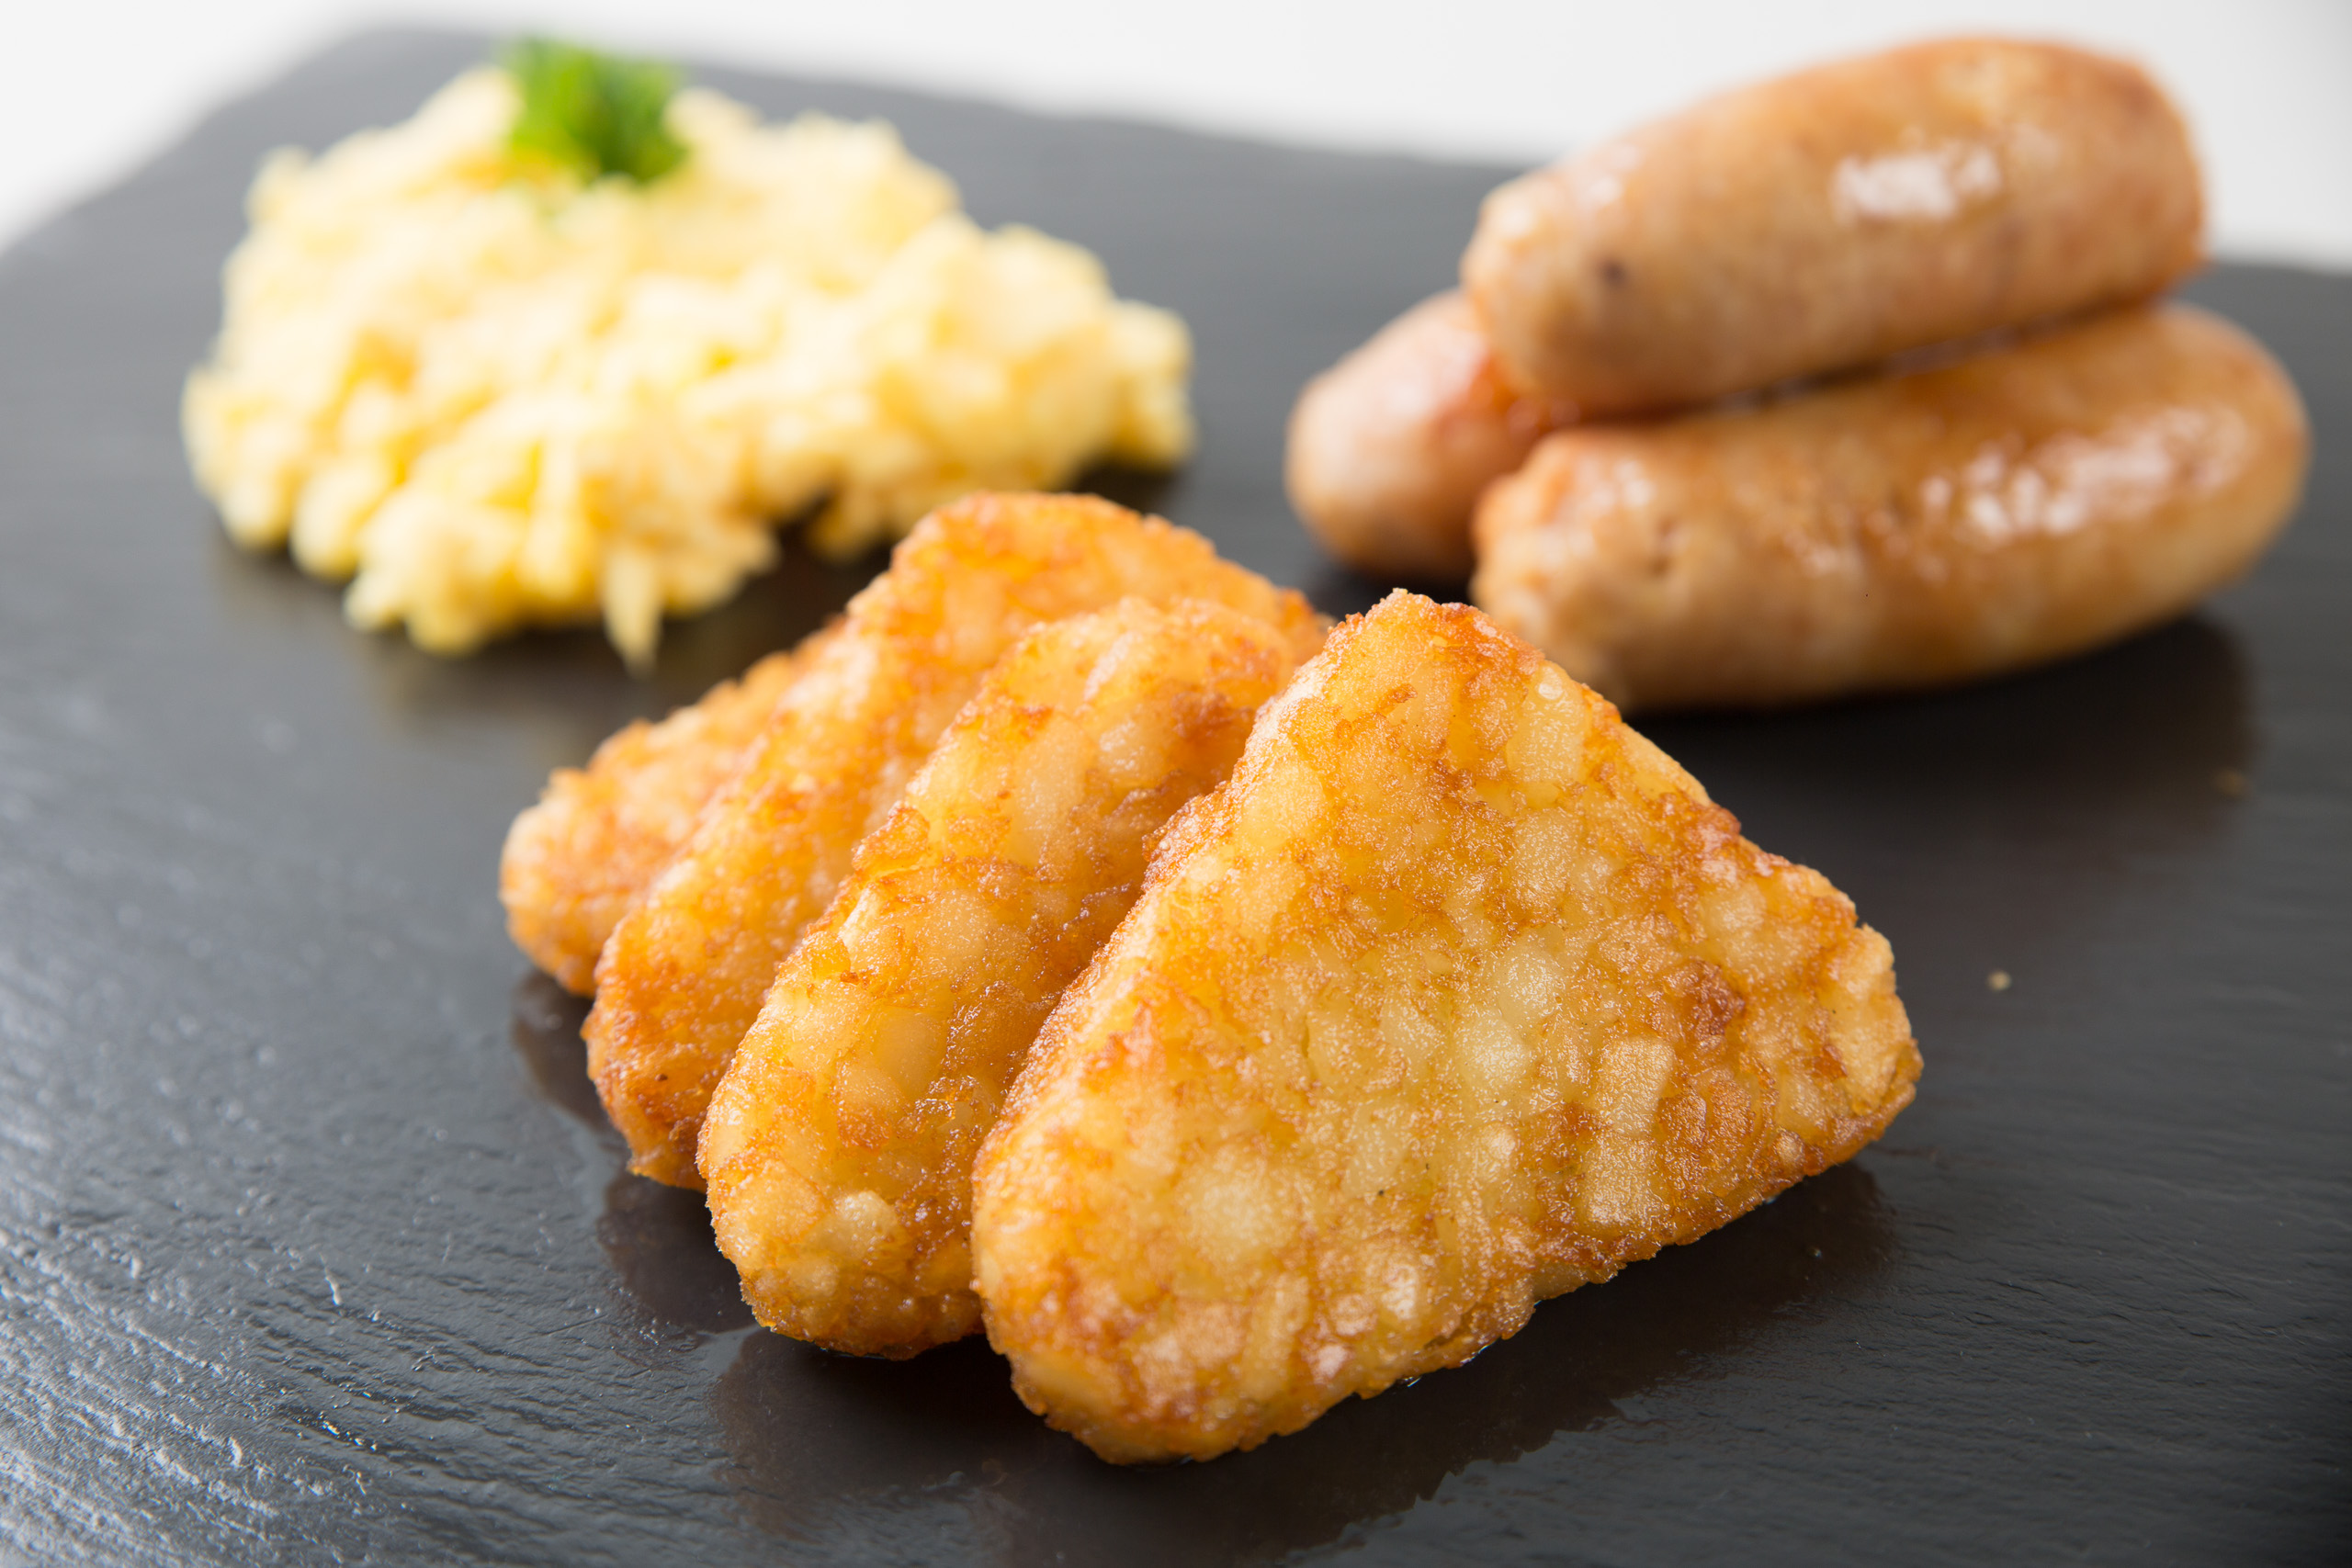triangle_hash_brown: (532, 520, 1890, 1405)
